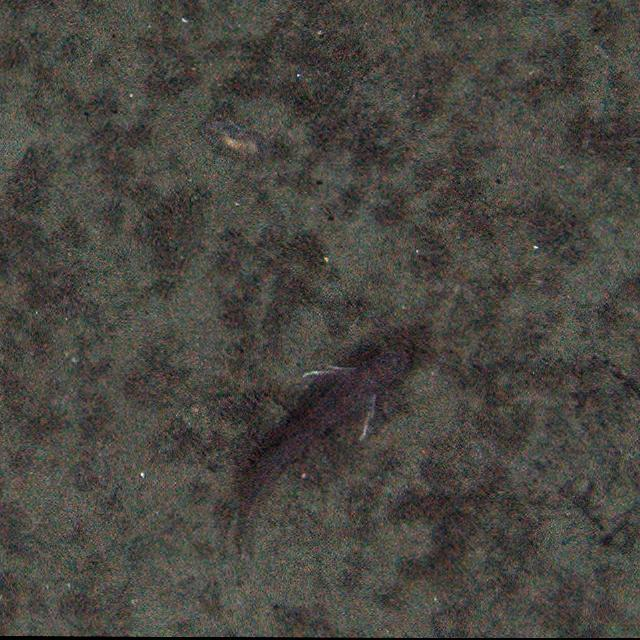roundfish: (220, 341, 418, 536)
